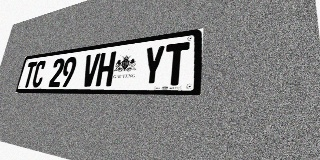2: (48, 58, 66, 87)
9: (59, 56, 78, 87)
C: (31, 60, 47, 87)
H: (95, 51, 116, 87)
T: (163, 42, 190, 86), (22, 61, 37, 88)
V: (81, 53, 101, 87)
Y: (141, 45, 166, 86)
